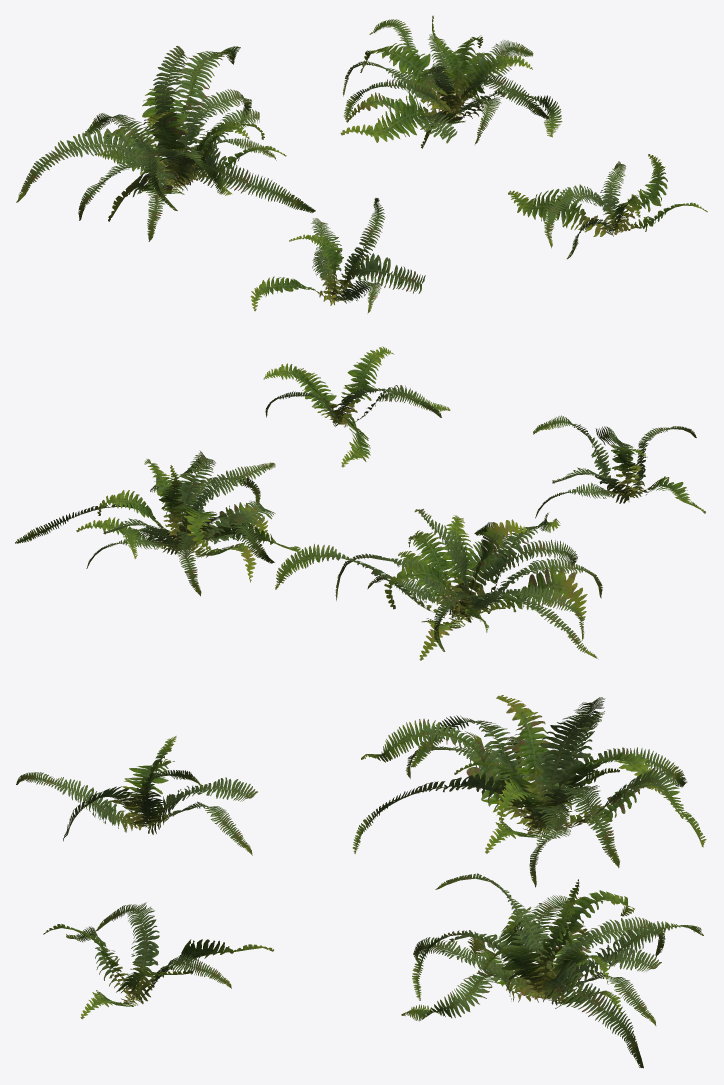
File: fern_02.glb
3 views of the same model, one above another, from view 1: azimuth 30°, elevation 25°; view 2: azimuth 150°, elevation 25°; view 3: azimuth 270°, elevation 25° (orthographic). The views are drawn at different scales.
Visible parts, largest first — view 1: fern_02_b; view 2: fern_02_b; view 3: fern_02_b.
Boxes of the visible parts, left/top/right/bottom form: fern_02_b: left=16, top=15, right=707, bottom=313; fern_02_b: left=15, top=346, right=705, bottom=660; fern_02_b: left=16, top=695, right=706, bottom=1068.
Bounding box in the file's own units: 1.97 × 0.4277 × 1.72.
1 material, 1 textured.
